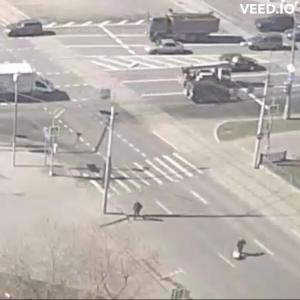car: (1, 67, 64, 103), (147, 11, 218, 42), (183, 68, 235, 86), (189, 84, 231, 105), (148, 40, 196, 58), (256, 16, 296, 36), (247, 34, 286, 53), (221, 54, 263, 71), (5, 20, 44, 37)
